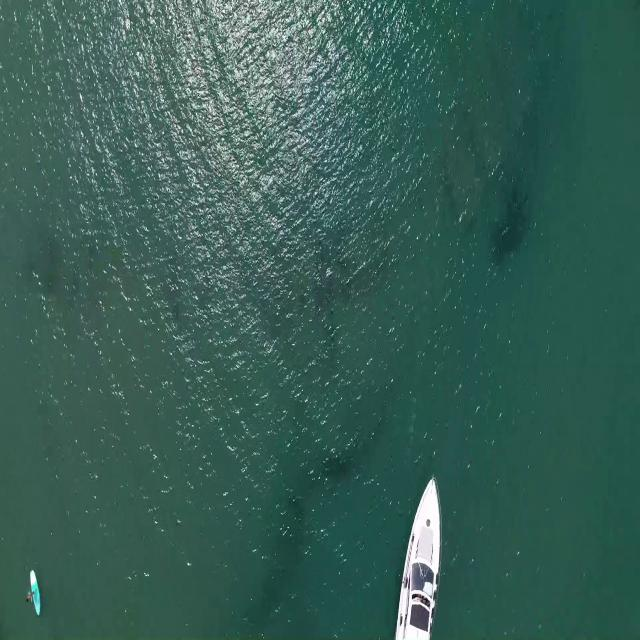boat: (392, 474, 446, 640)
person: (25, 590, 36, 601)
surfboard: (30, 566, 45, 614)
